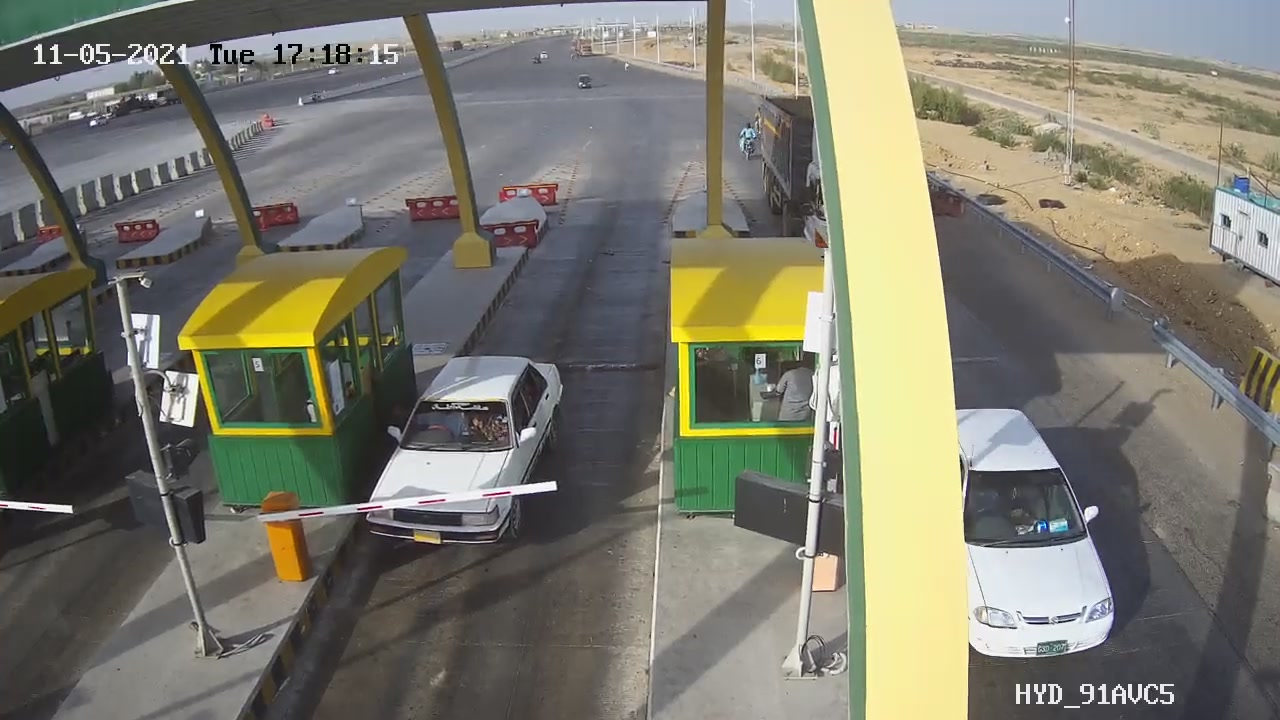F1: (346, 334, 585, 562)
